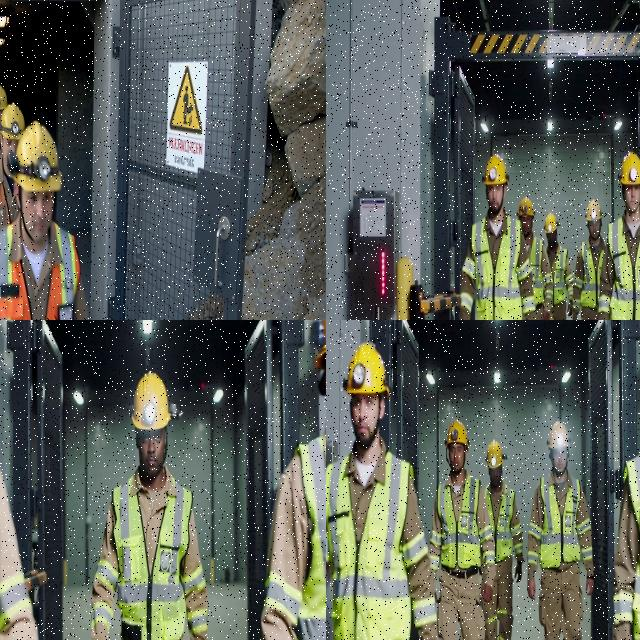Vest: (326, 452, 411, 639), (113, 477, 192, 639), (296, 437, 325, 639), (472, 216, 522, 319), (437, 476, 480, 569), (540, 477, 580, 568), (608, 218, 639, 319), (0, 225, 31, 319), (486, 485, 514, 562), (581, 242, 604, 308), (530, 236, 544, 305), (553, 247, 567, 305), (632, 558, 639, 639), (0, 180, 10, 225)
Worker: (326, 344, 436, 639), (92, 373, 207, 639), (0, 122, 87, 319), (429, 421, 495, 639), (528, 422, 593, 639), (262, 431, 325, 639), (460, 155, 535, 319), (484, 441, 523, 639), (599, 152, 639, 319), (0, 469, 37, 639), (614, 456, 639, 639), (518, 197, 553, 319), (573, 200, 605, 319), (0, 104, 24, 230), (545, 213, 573, 319), (0, 86, 7, 121)
helmet: (9, 121, 61, 192), (131, 372, 181, 430), (343, 343, 389, 396), (0, 104, 25, 139), (483, 154, 508, 185), (619, 152, 639, 185), (445, 421, 469, 448), (548, 422, 570, 449), (485, 441, 507, 468), (316, 320, 325, 369), (586, 199, 602, 221), (518, 197, 534, 217), (544, 212, 558, 234), (0, 86, 7, 110)
